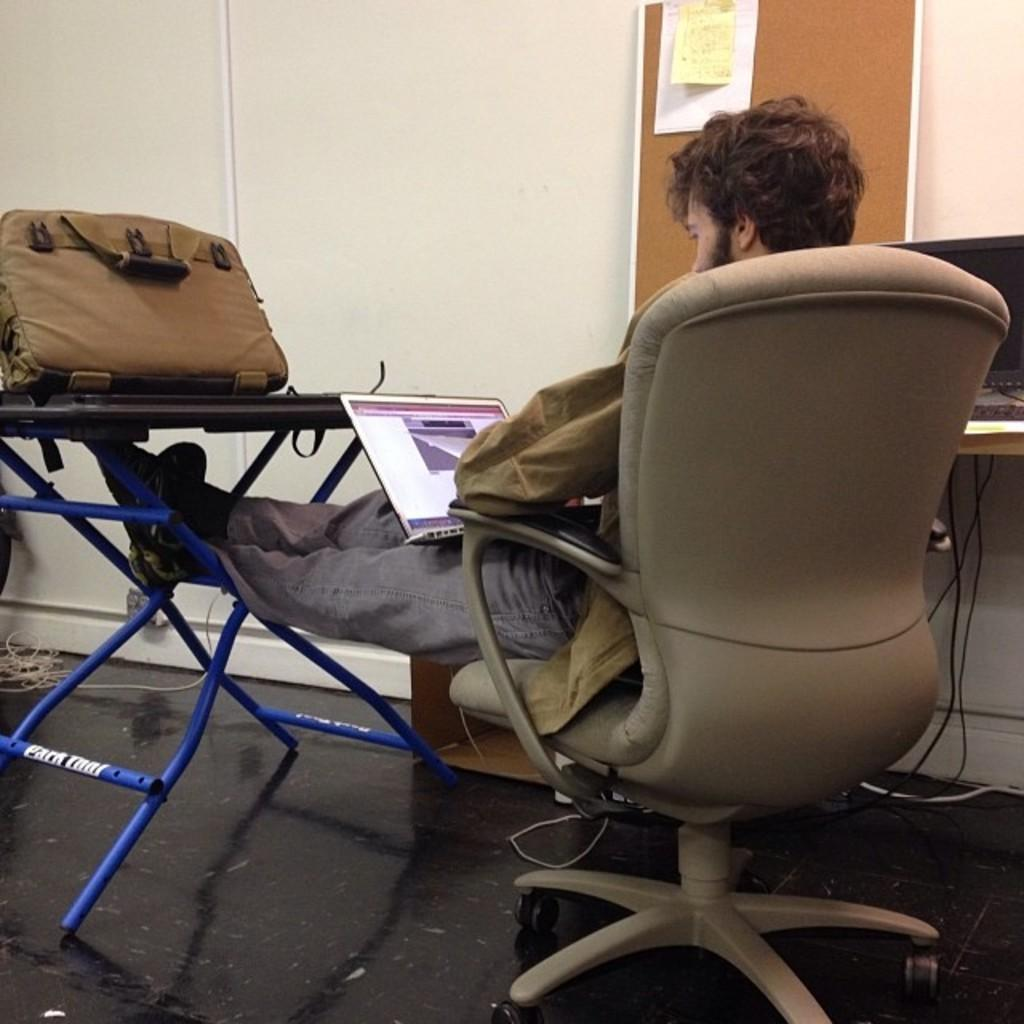Luggage-and-bags: (16, 205, 306, 403)
